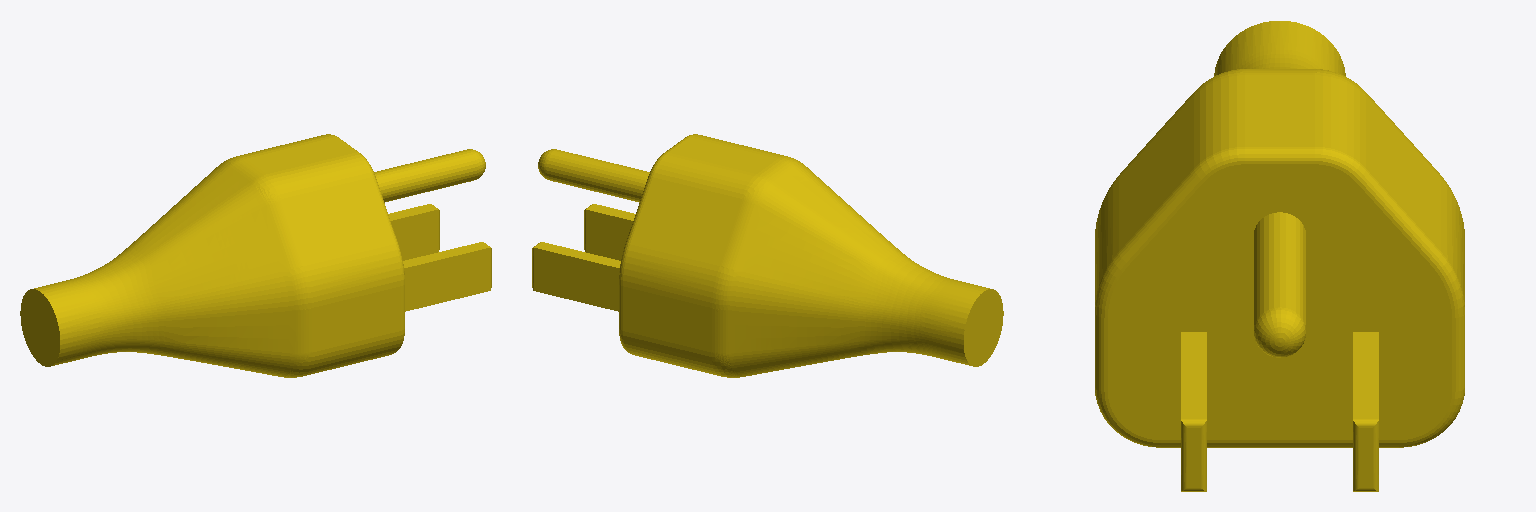
robot.urdf — cb_charging_block_2:
<?xml version="1.0"?>
<!-- ContactBench charging_block_2. Generated by FoundationTouch tools/contactbench/make_contactbench_assets.py -->
<robot name="cb_charging_block_2">
  <material name="c"><color rgba="0.85 0.75 0.10 1.0"/></material>
  <link name="object">
    <visual><origin xyz="0 0 0" rpy="0 0 0"/><geometry><mesh filename="charging_block_2.obj" scale="1 1 1"/></geometry><material name="c"/></visual>
    <collision><origin xyz="0 0 0" rpy="0 0 0"/><geometry><mesh filename="charging_block_2.obj" scale="1 1 1"/></geometry><sdf resolution="256"/></collision>
    <inertial><mass value="0.007410"/><origin xyz="0 0 0" rpy="0 0 0"/><inertia ixx="5.726990e-07" ixy="-6.361240e-13" ixz="-2.538054e-08" iyy="1.160879e-06" iyz="-1.286397e-12" izz="1.212796e-06"/></inertial>
  </link>
</robot>

--- Render facts (derived) ---
Views: 3 orthographic renders of the robot side by side, from view 1: azimuth 30°, elevation 25°; view 2: azimuth 150°, elevation 25°; view 3: azimuth 270°, elevation 25°.
Model cb_charging_block_2 with 1 links and 0 joints (none), rooted at object, posed all joints at 0.
Visible links, largest first — view 1: object; view 2: object; view 3: object.
Link boxes in pixels (bbox=[...]): object: bbox=[20, 134, 491, 377]; object: bbox=[532, 134, 1003, 377]; object: bbox=[1095, 21, 1464, 491].
Bounding box of the posed robot: 0.064 × 0.028 × 0.025 m (x, y, z).
Meshes: 1 distinct files referenced, 1 mesh visuals loaded (1 OBJ).
